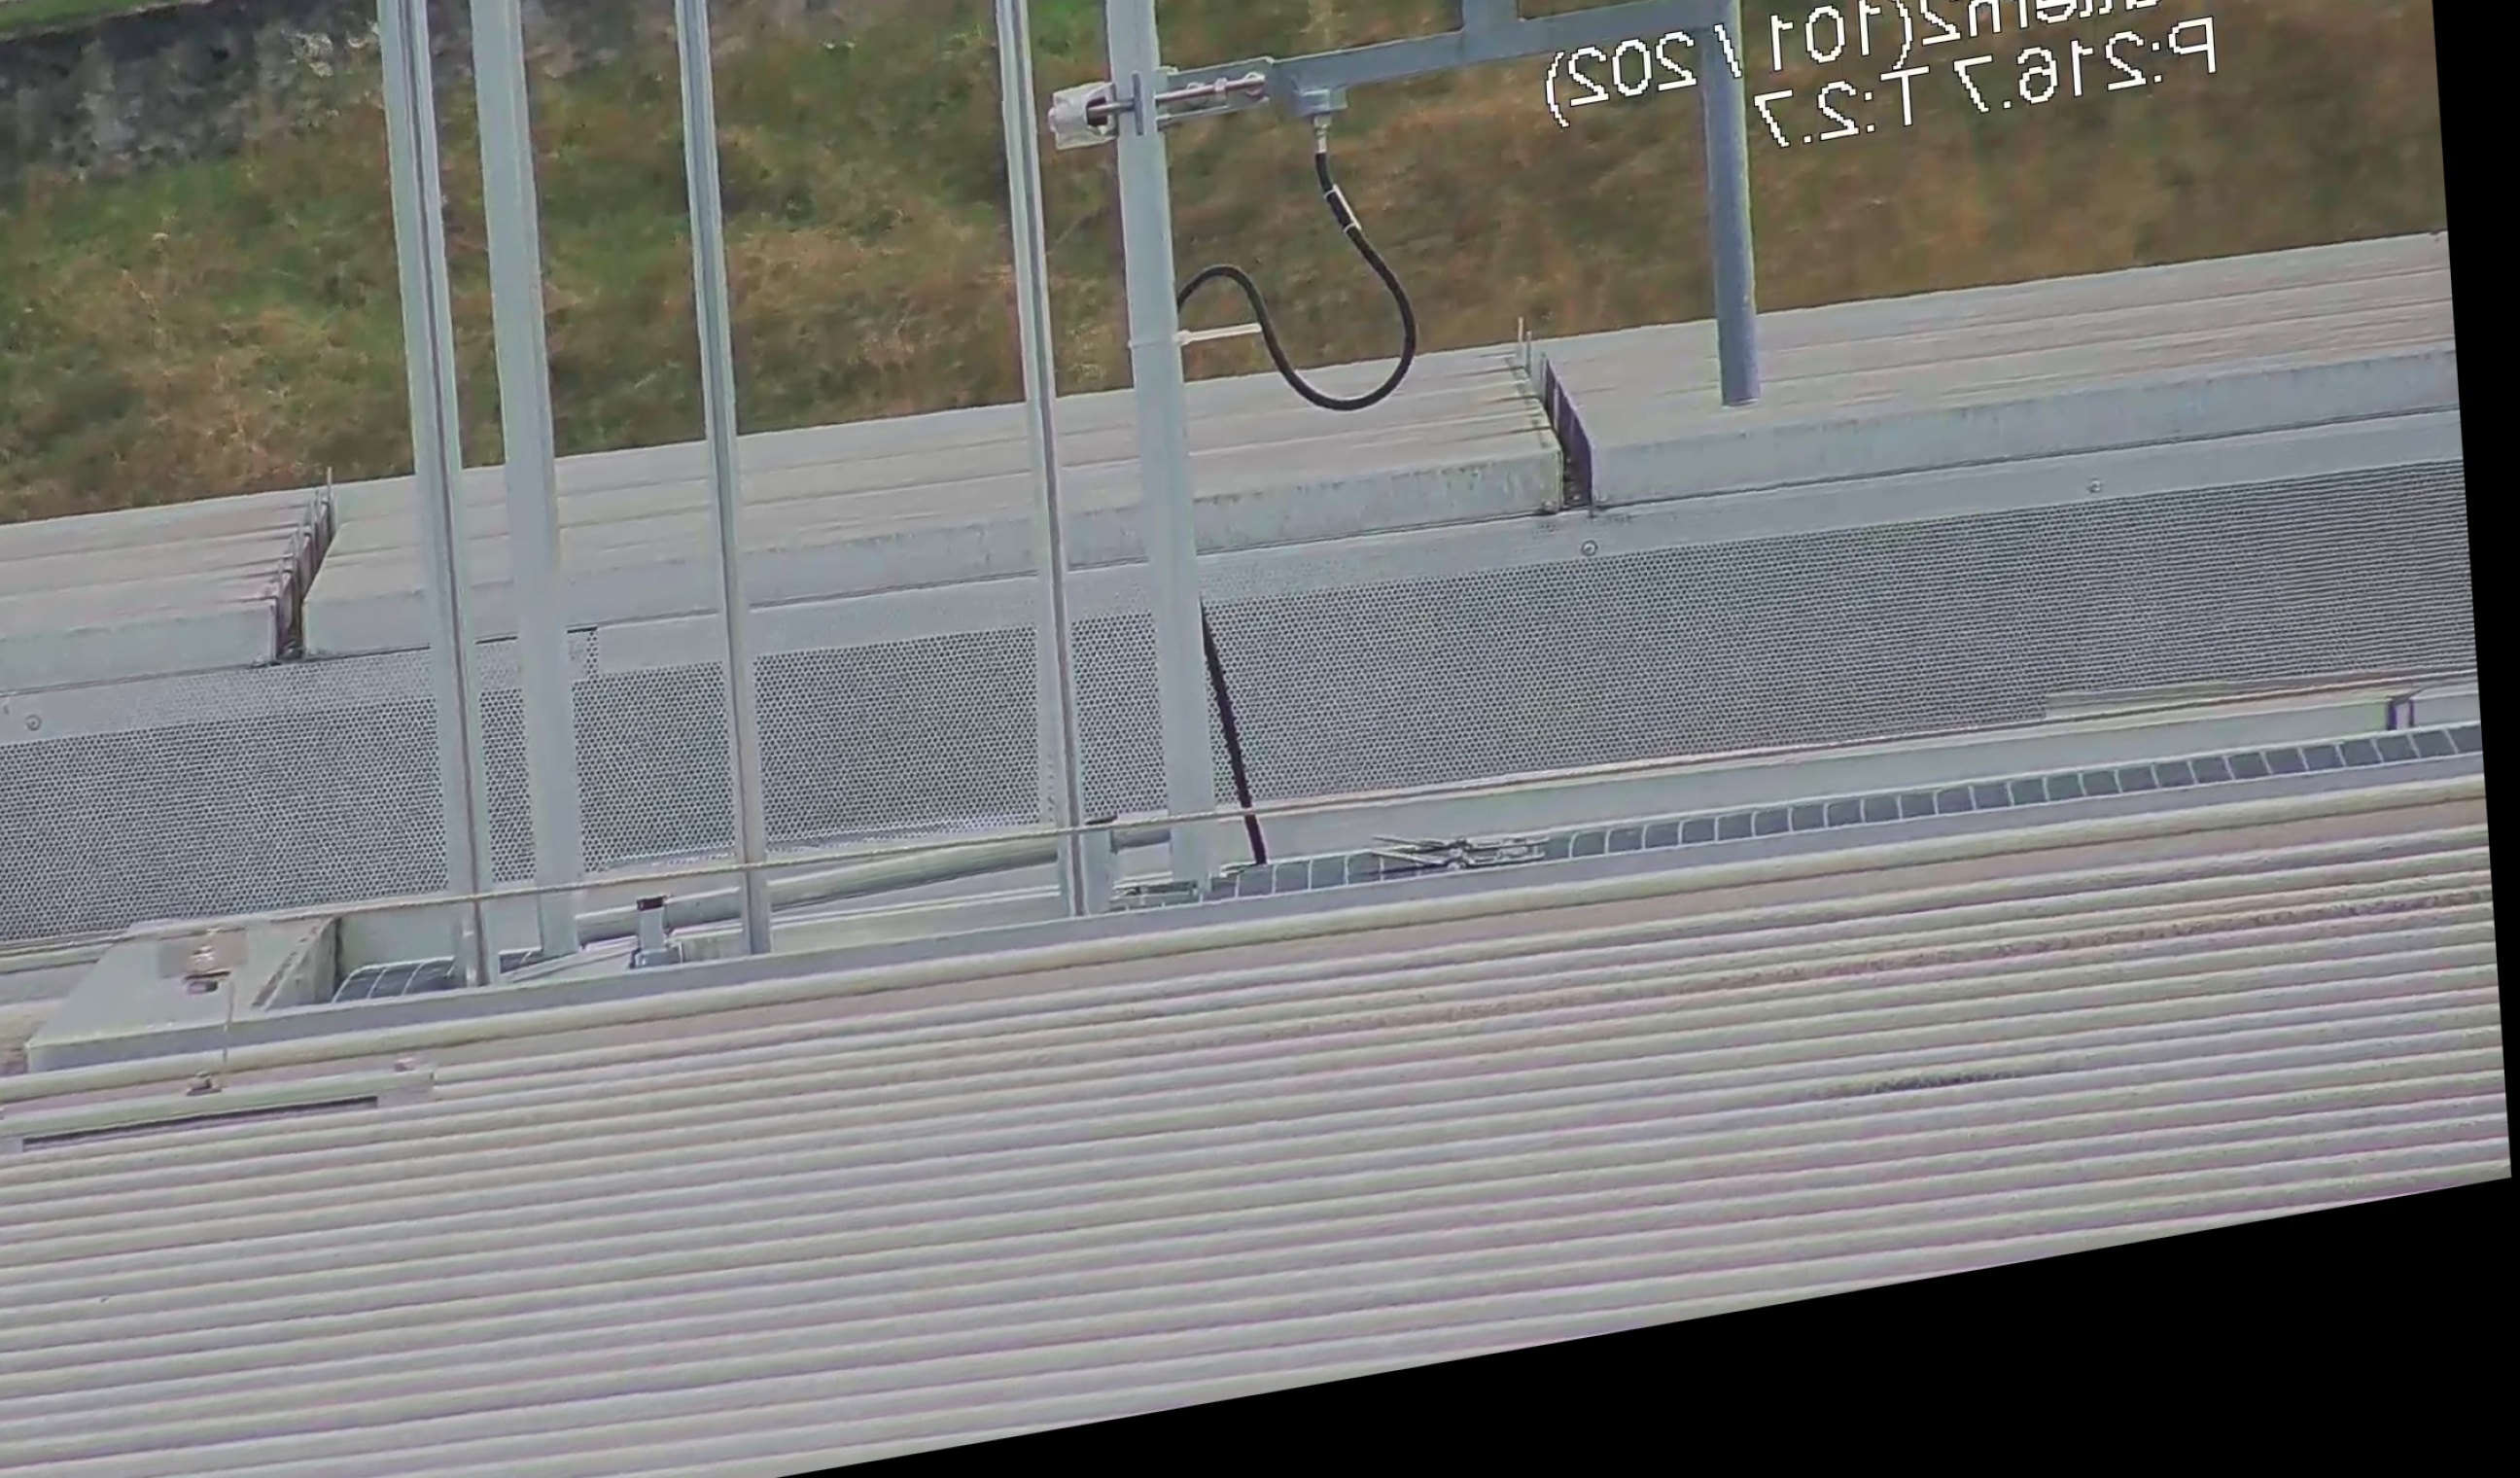Other: (222, 457, 355, 679)
